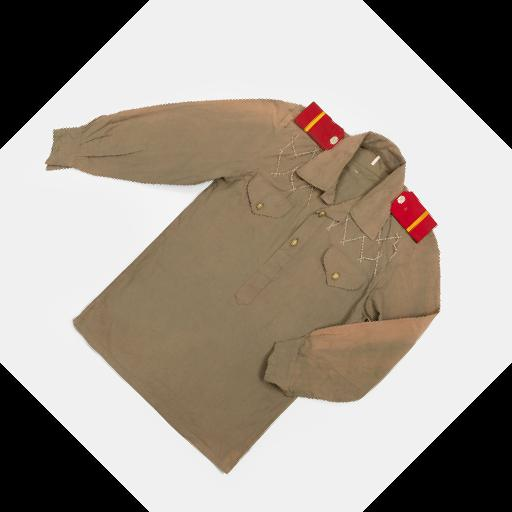north army: (61, 60, 472, 456)
